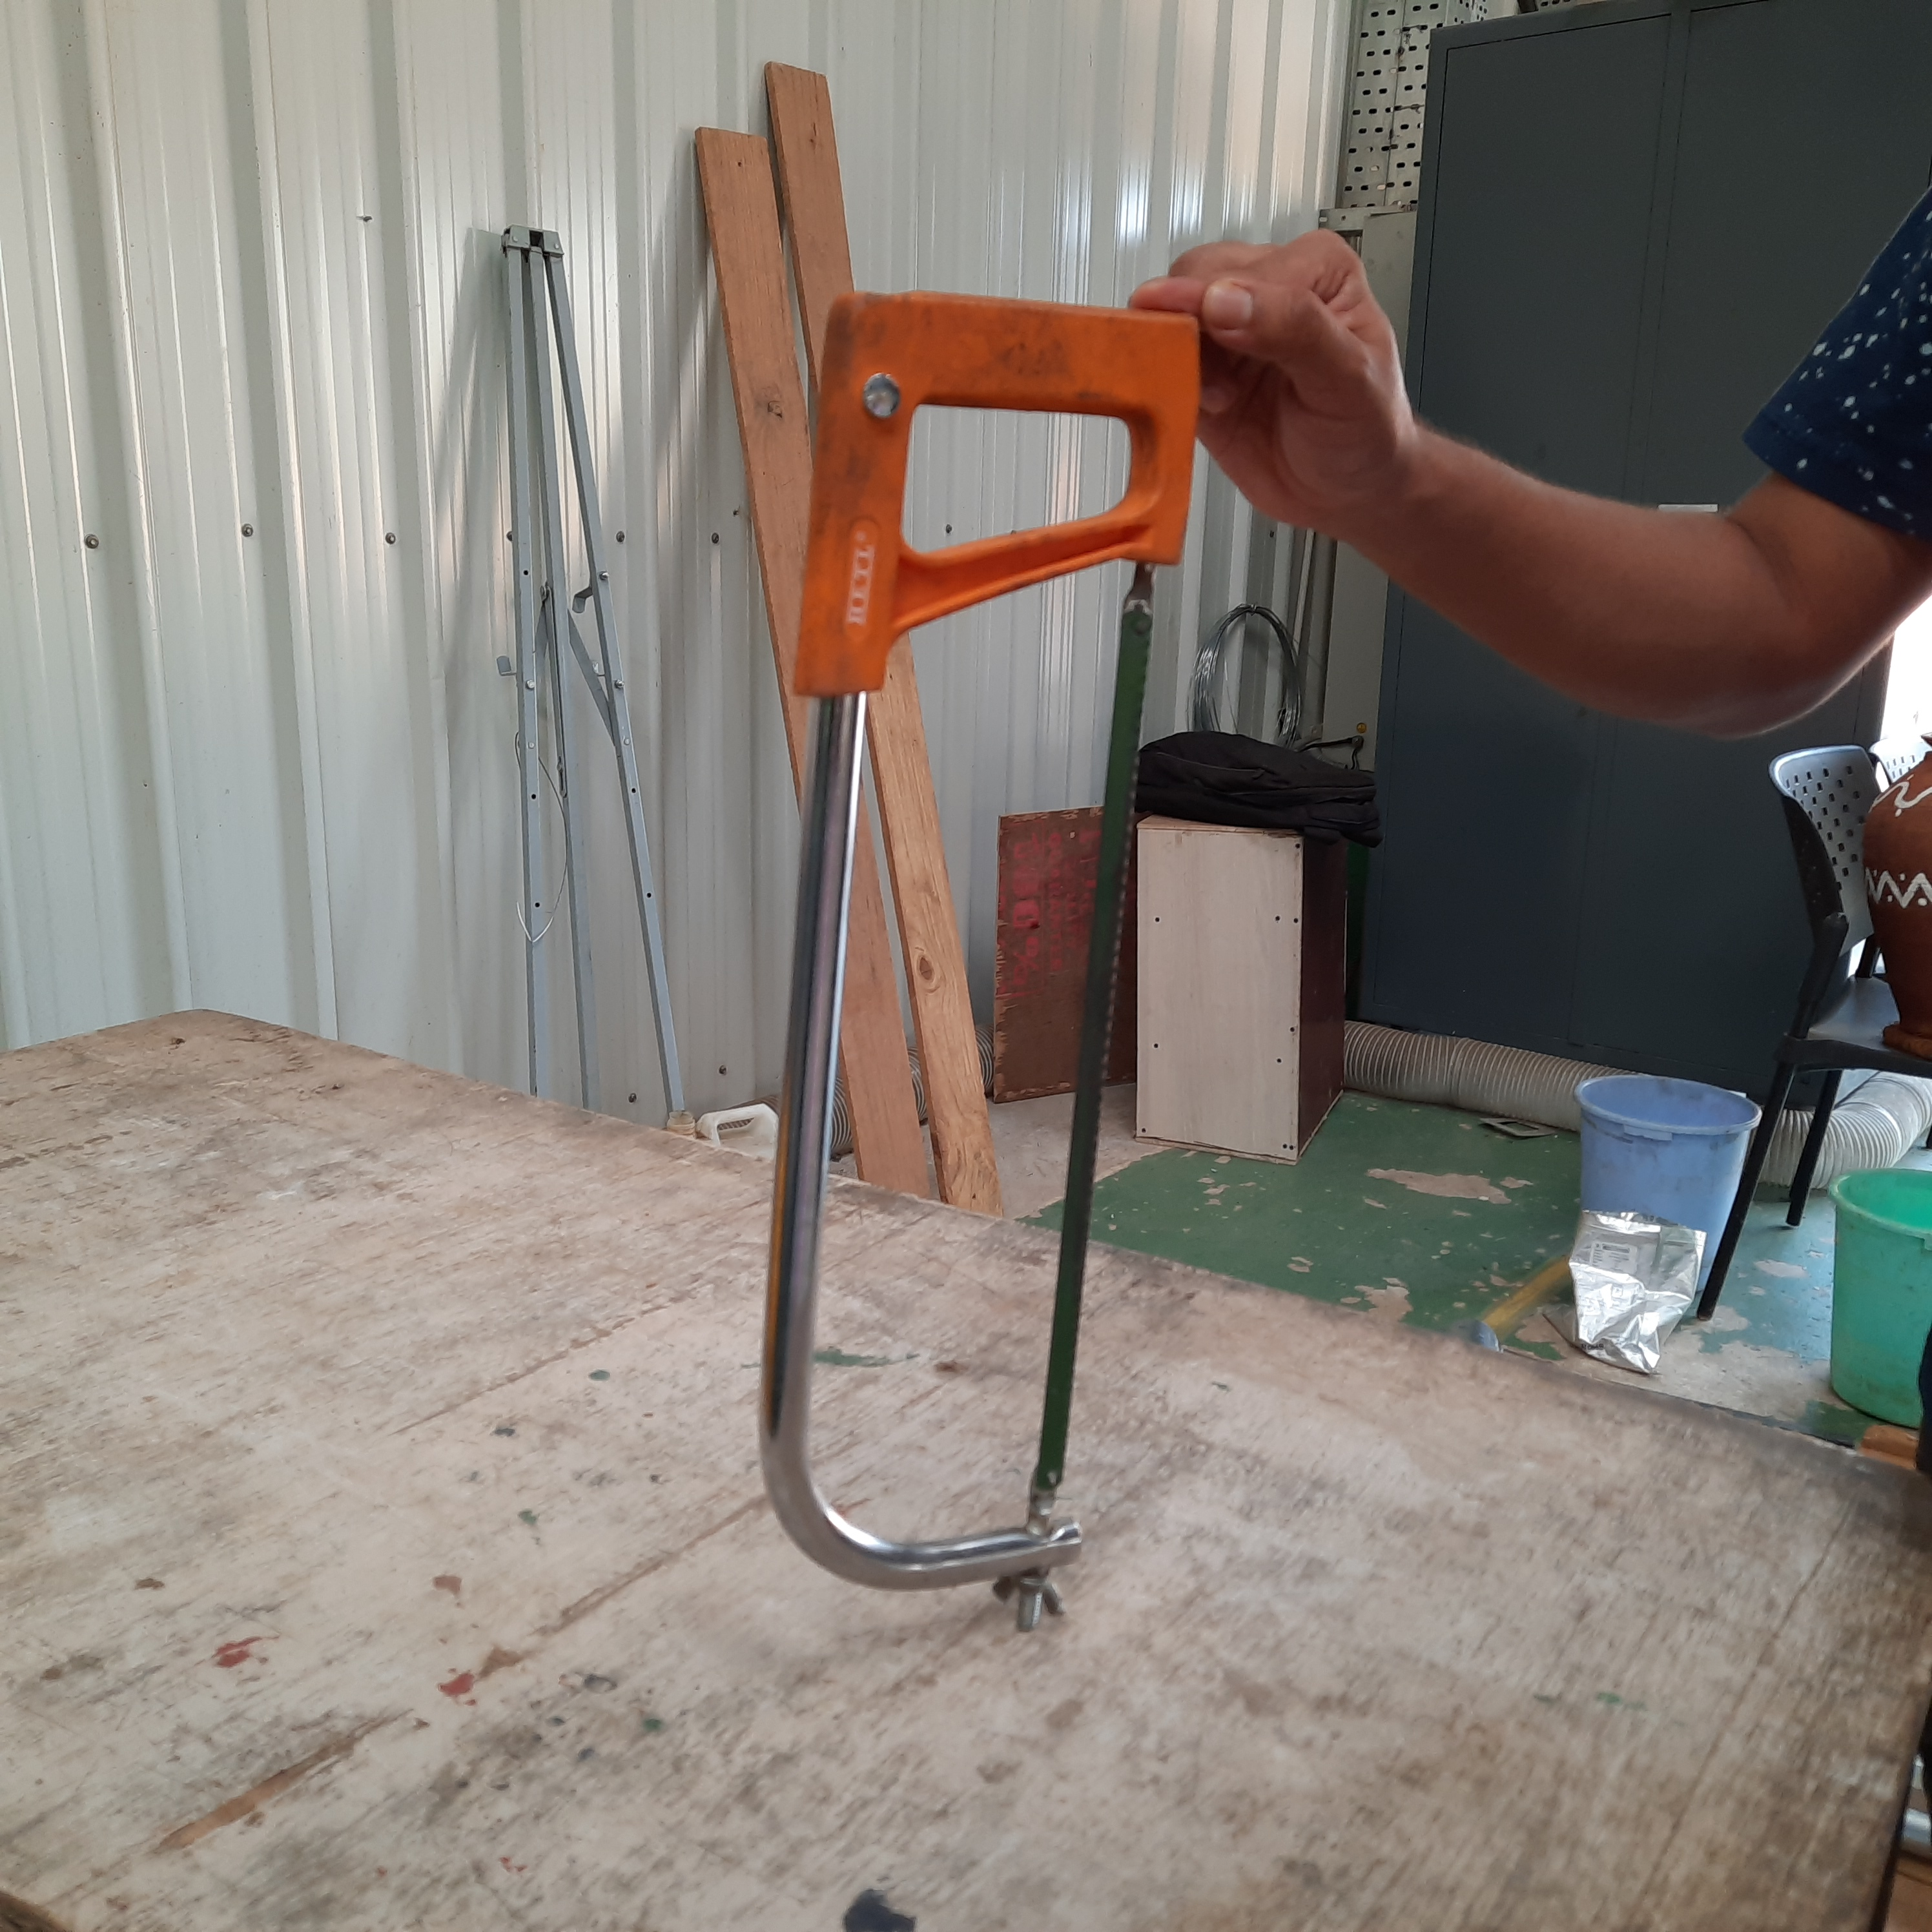Hexaframe: (752, 290, 1200, 1645)
